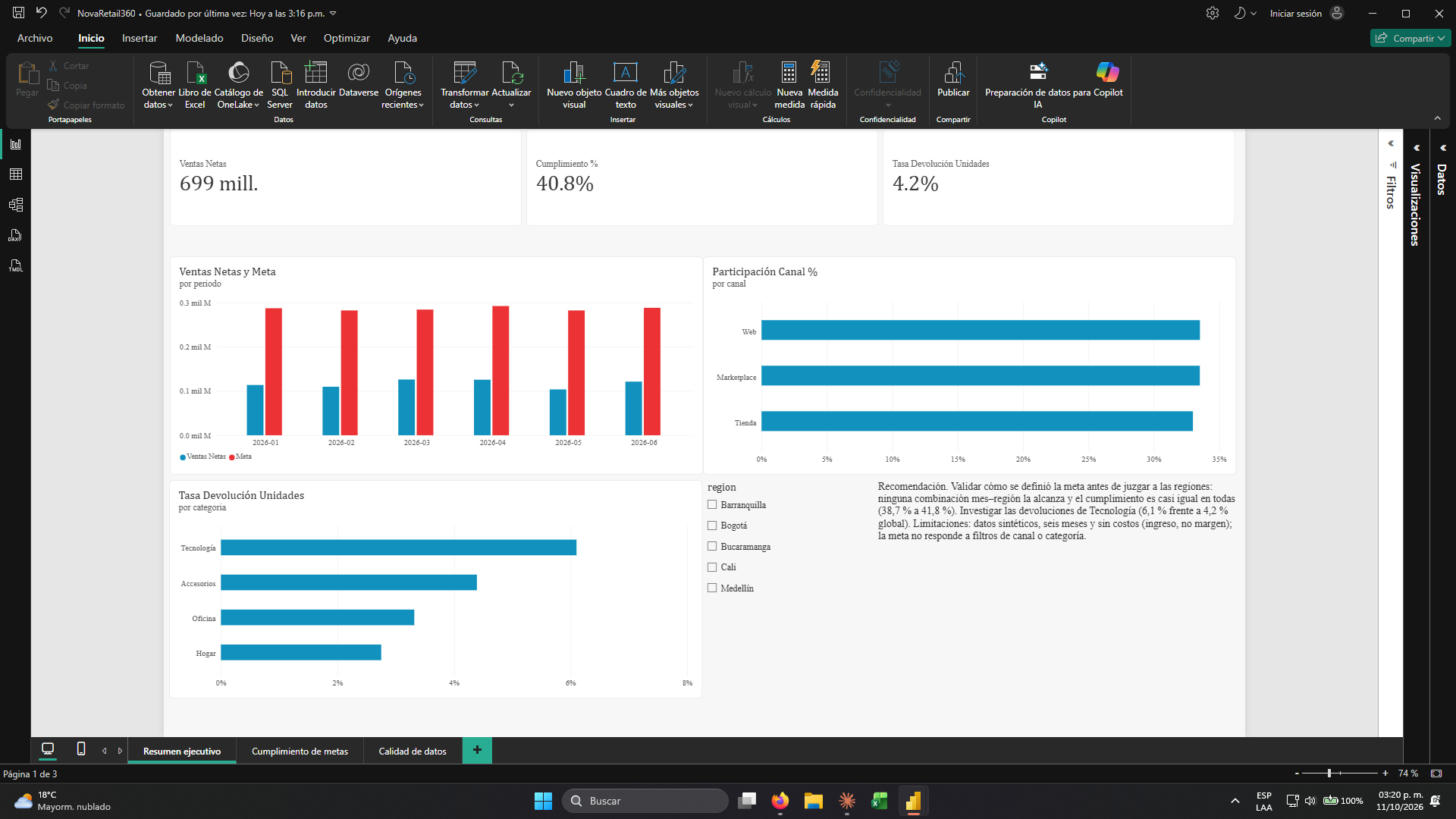

This screenshot's page, from the dashboard's own definition file:
{"tool":"powerbi","page":{"name":"Resumen ejecutivo","canvas":[1920,1080],"ordinal":0},"visuals":[{"type":"cardVisual","fields":{"Data":["ventas_limpias.Ventas Netas","ventas_limpias.Cumplimiento %","ventas_limpias.Tasa Devolución Unidades"]},"box":[10.2,0,1893.7,172.2],"z":0},{"type":"lineClusteredColumnComboChart","fields":{"Category":["dim_periodo.periodo"],"Y":["ventas_limpias.Ventas Netas","ventas_limpias.Meta"]},"box":[10.2,226.1,946.9,388.1],"z":1},{"type":"clusteredBarChart","fields":{"Category":["productos.categoria"],"Y":["ventas_limpias.Tasa Devolución Unidades"]},"box":[10,624,947,388],"z":2},{"type":"clusteredBarChart","fields":{"Category":["ventas_limpias.canal"],"Y":["ventas_limpias.Participación Canal %"]},"box":[957,226,947,388],"z":3},{"type":"slicer","fields":{"Values":["dim_region.region"]},"box":[957.1,624.4,310.8,388.1],"z":4},{"type":"textbox","box":[1268,624,636,388],"z":5}]}

Visuals, with their boxes on the page's 1920x1080 design canvas (x1, y1, x2, y2). These are canvas units, not pixel positions in the 1456x819 screenshot, which may show the page scaled, cropped or inside an application window:
cardVisual - ventas_limpias.Ventas Netas x ventas_limpias.Cumplimiento %: detection(10, 0, 1904, 172)
lineClusteredColumnComboChart - dim_periodo.periodo x ventas_limpias.Ventas Netas: detection(10, 226, 957, 614)
clusteredBarChart - productos.categoria x ventas_limpias.Tasa Devolución Unidades: detection(10, 624, 957, 1012)
clusteredBarChart - ventas_limpias.canal x ventas_limpias.Participación Canal %: detection(957, 226, 1904, 614)
slicer - dim_region.region: detection(957, 624, 1268, 1012)
textbox: detection(1268, 624, 1904, 1012)
